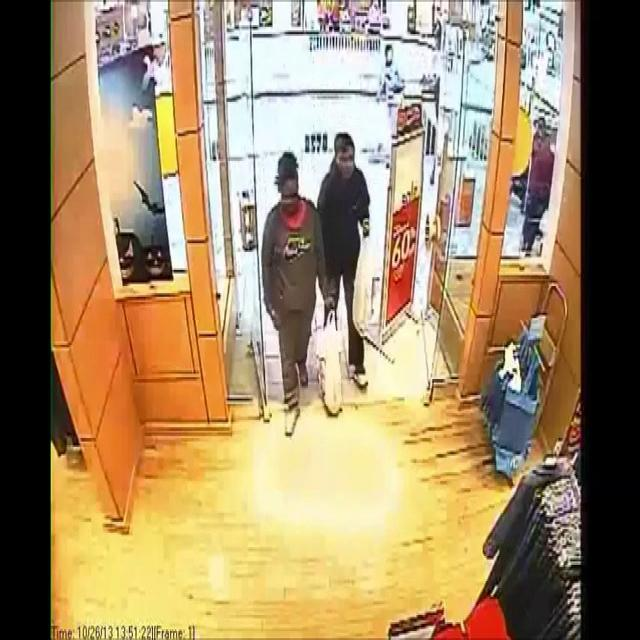normal: (314, 89, 379, 409), (255, 111, 322, 410)
